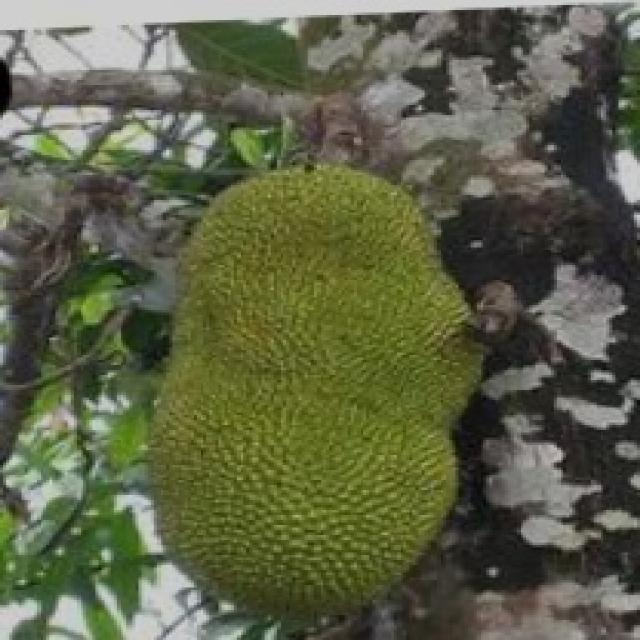Fruit: (117, 277, 520, 640), (129, 145, 520, 450)
